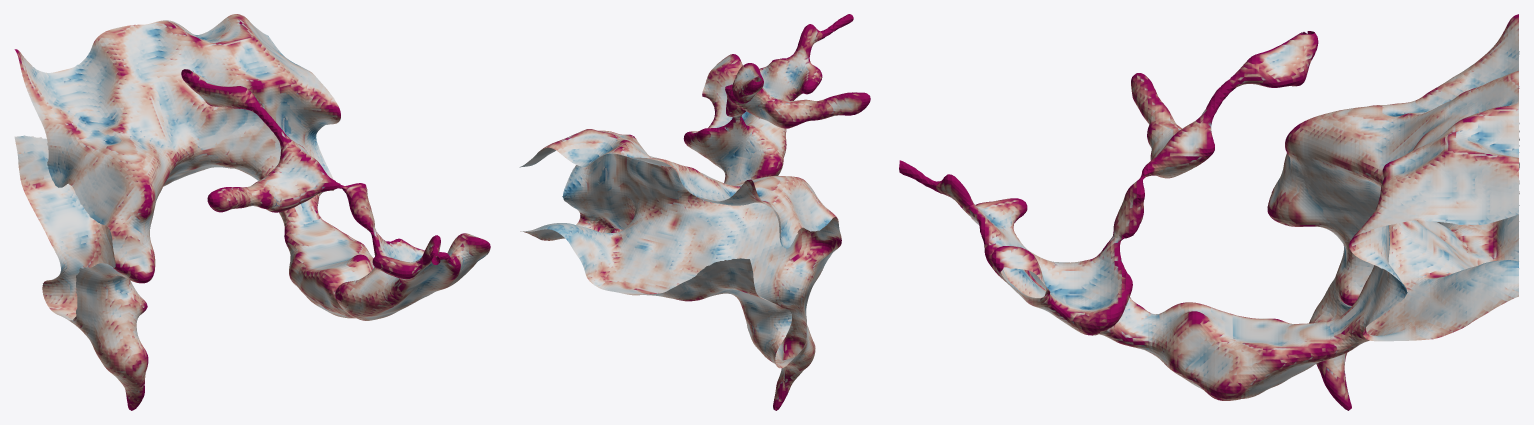
Rendered from crop1140_curvature.glb.
3 renders of one model, left to right at view 1: azimuth 30°, elevation 25°; view 2: azimuth 150°, elevation 25°; view 3: azimuth 270°, elevation 25°, orthographic. The views are drawn at different scales.
Visible parts, largest first — view 1: world; view 2: world; view 3: world.
Boxes of the visible parts, bbox=[...] form: world: bbox=[14, 14, 490, 410]; world: bbox=[519, 14, 870, 410]; world: bbox=[899, 14, 1519, 410].
Size of the model in its own units: 1480 by 1903 by 2678.
